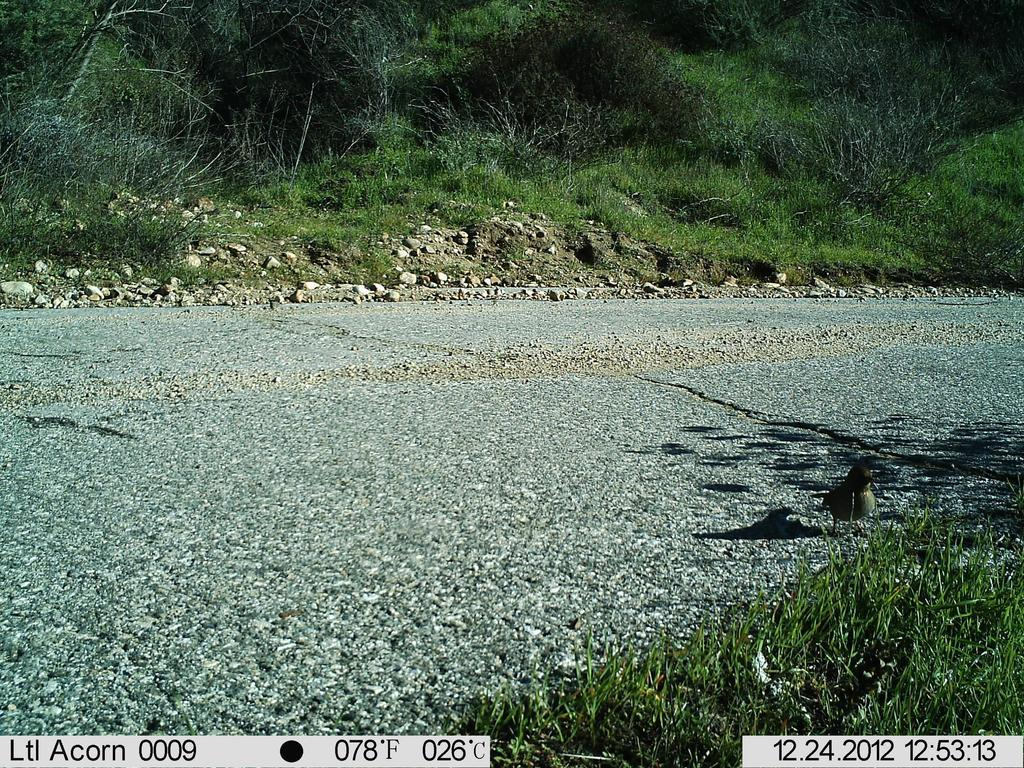bird: (822, 457, 882, 543)
